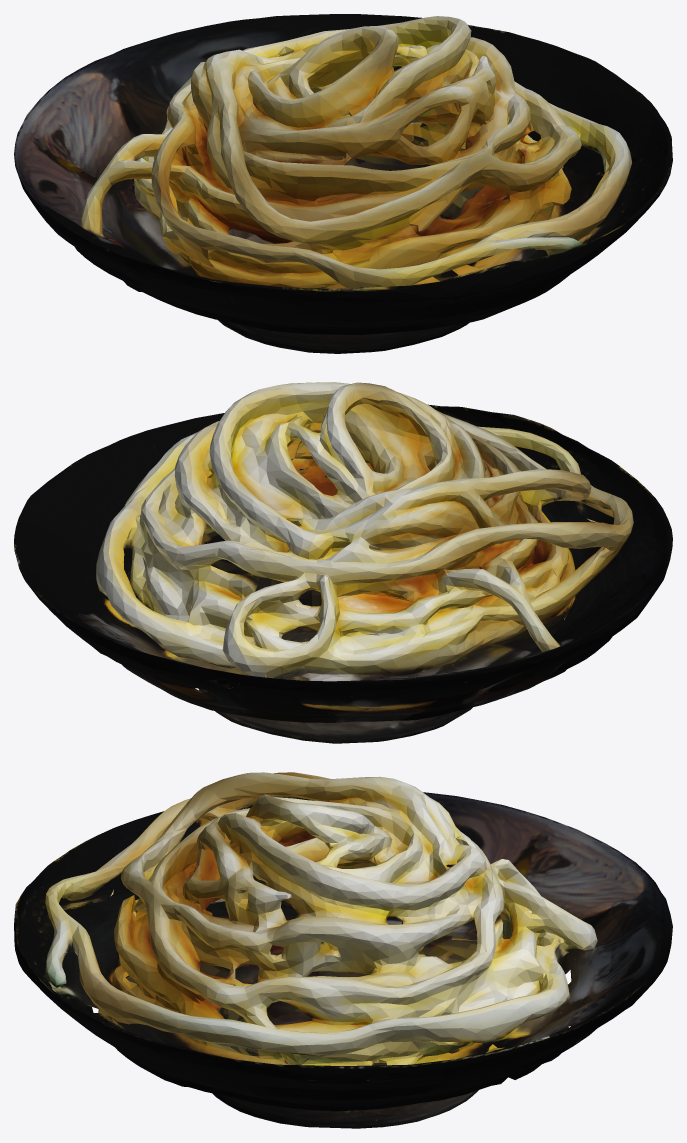
File: porcelain-pasta-plate-japanese.jpeg.glb
3 views of the same model, one above another, from view 1: azimuth 30°, elevation 25°; view 2: azimuth 150°, elevation 25°; view 3: azimuth 270°, elevation 25° (orthographic).
Visible parts, largest first — view 1: world; view 2: world; view 3: world.
Boxes of the visible parts, x1=… form: world: x1=14, y1=14, x2=672, y2=353; world: x1=14, y1=382, x2=672, y2=743; world: x1=14, y1=772, x2=672, y2=1128.
Bounding box in the file's own units: 1 × 0.4618 × 1.
1 material, 1 textured.
